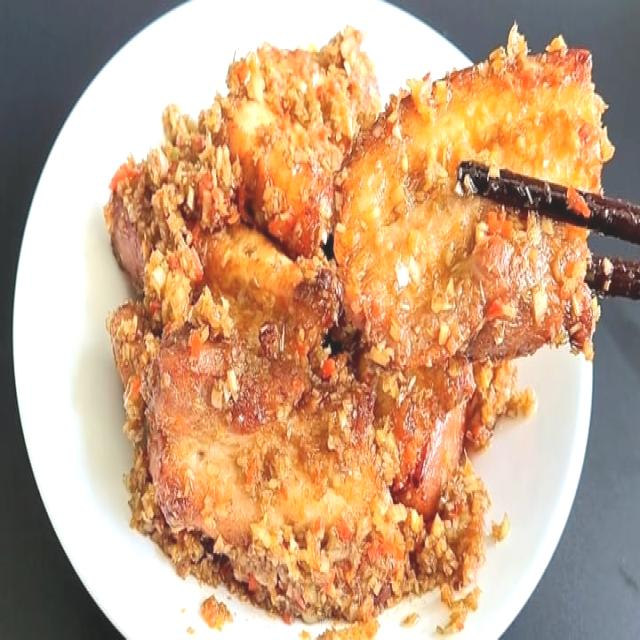thit chien: (104, 27, 639, 638)
